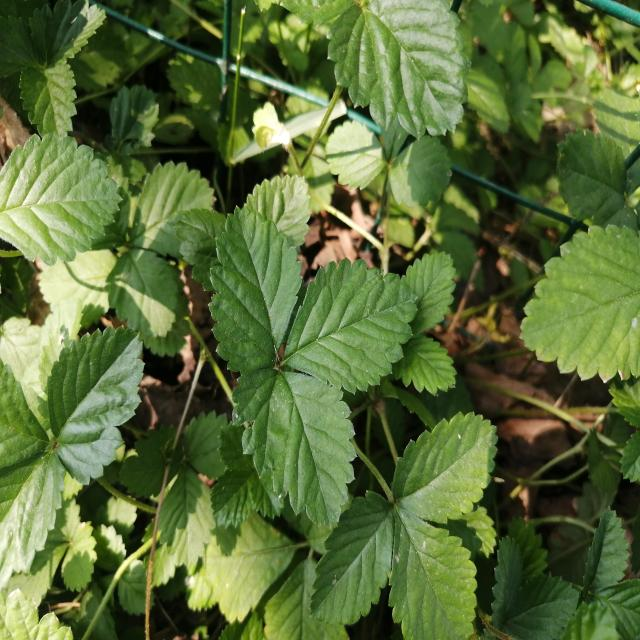Mock_strawberry: (187, 206, 409, 511)
